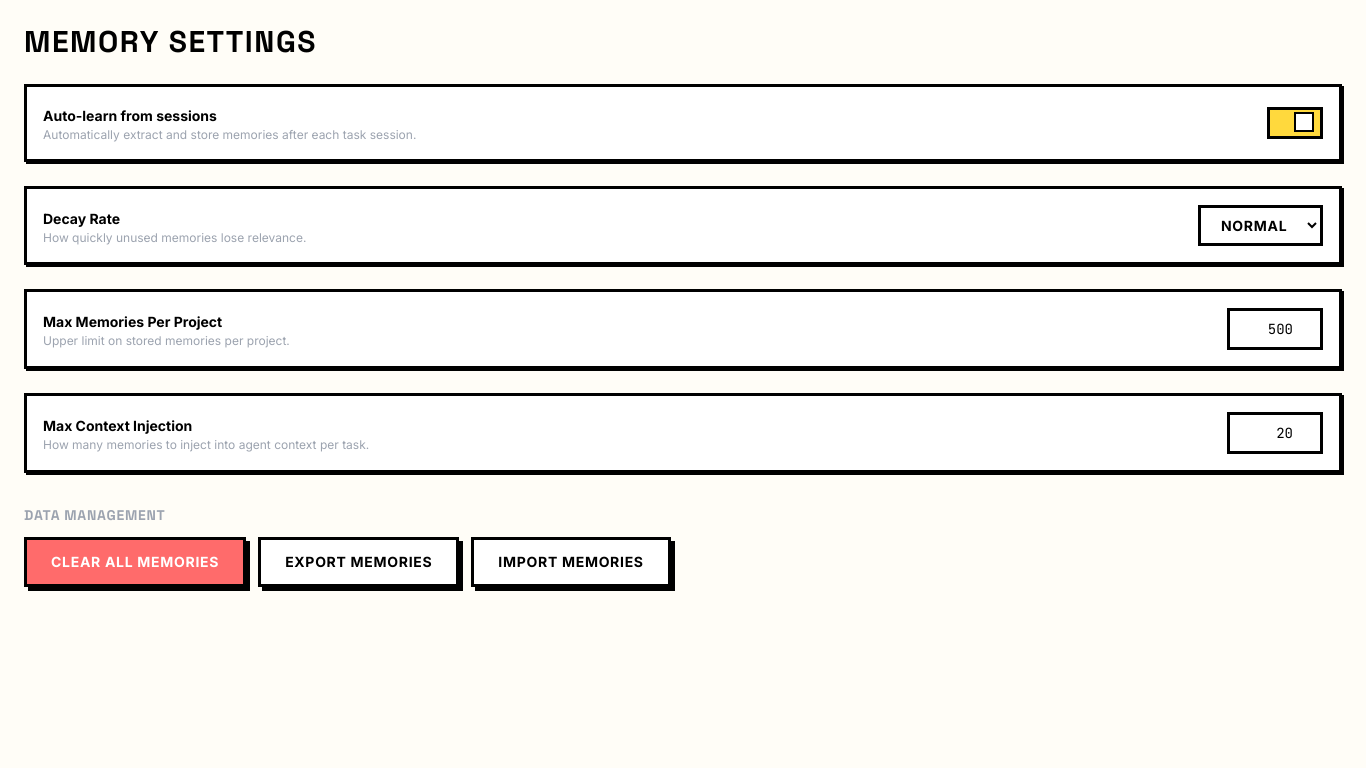
Test: MemorySettings › cancels clear when No is clicked
This screenshot has width=1366, height=768.
Click the button with test id "clear-all-button" at x=135, y=562, box [24,537,246,587]
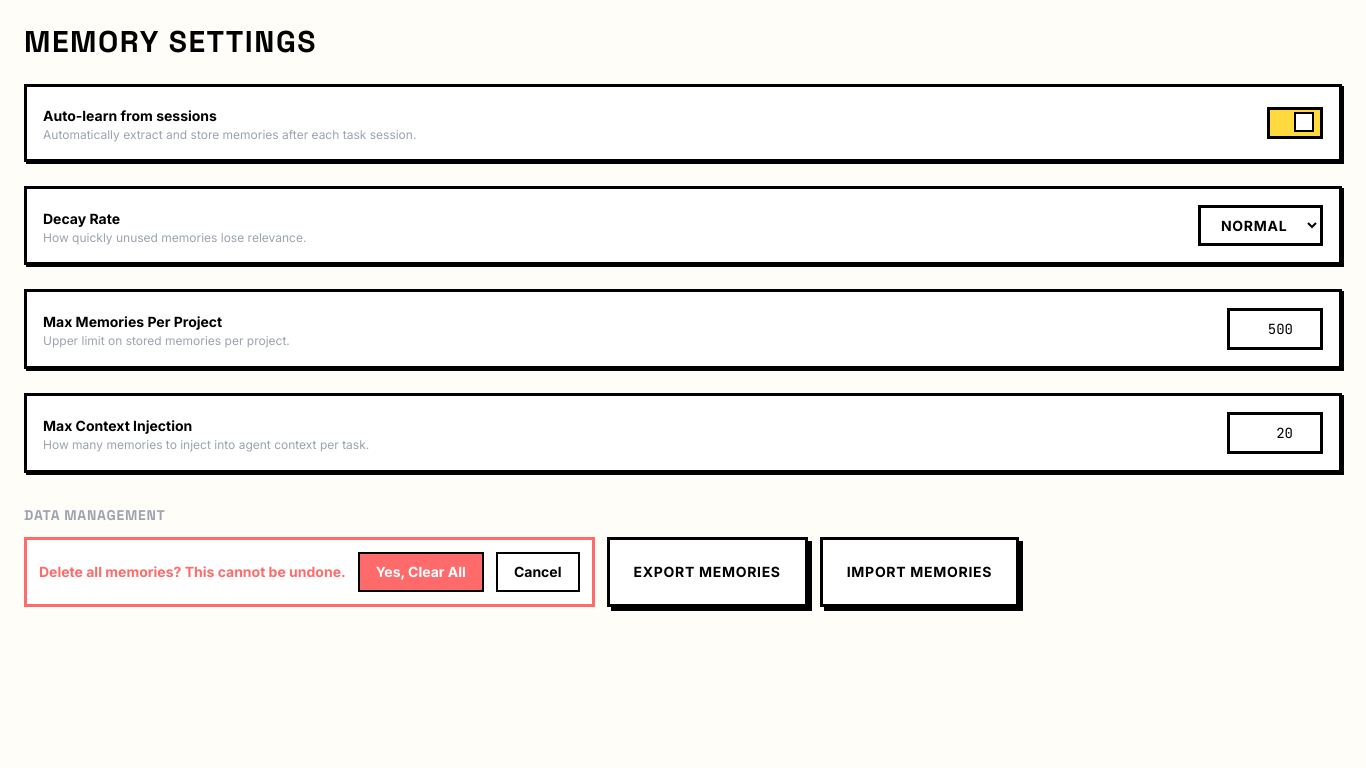
Click the button with test id "clear-confirm-no" at x=538, y=572, box [496,552,580,592]
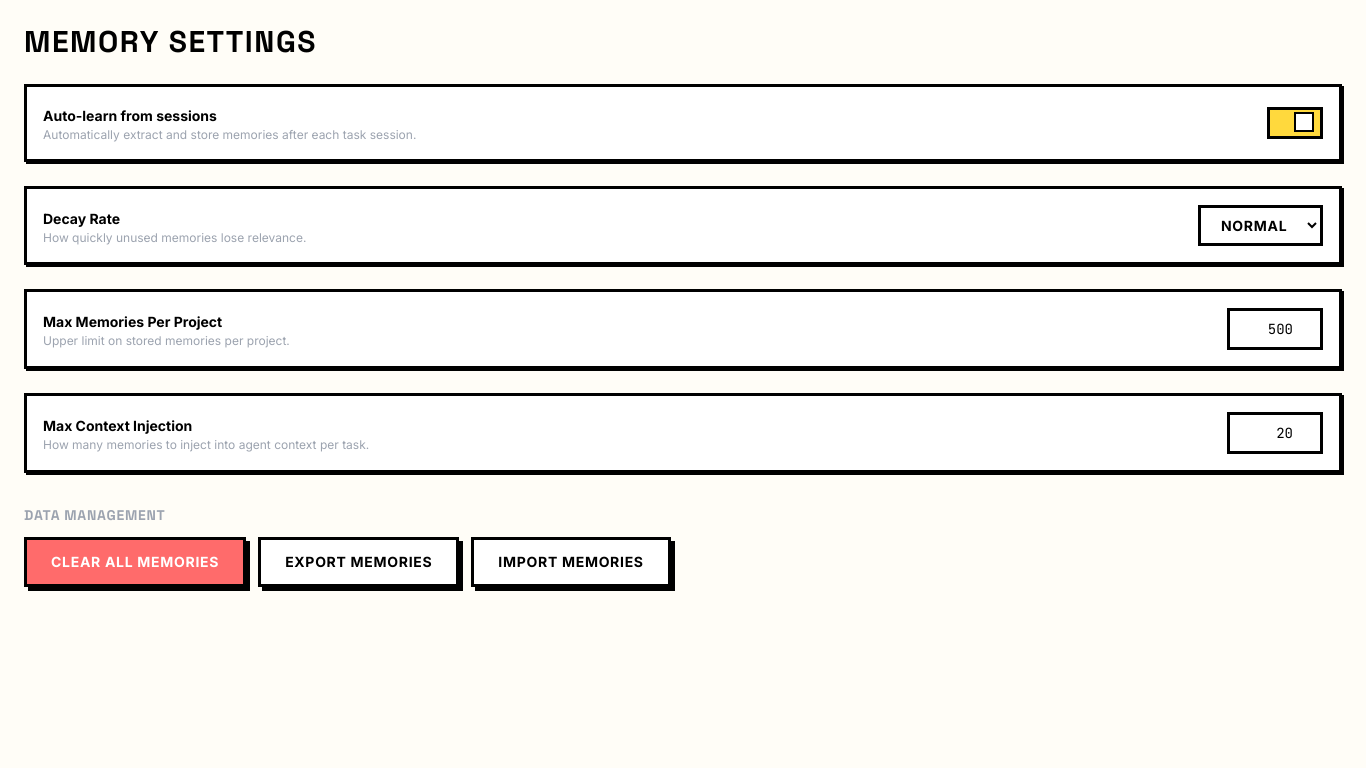
Now the element with test id "clear-confirm" is gone
Now the button with test id "clear-all-button" is shown, box [24,537,246,587]
